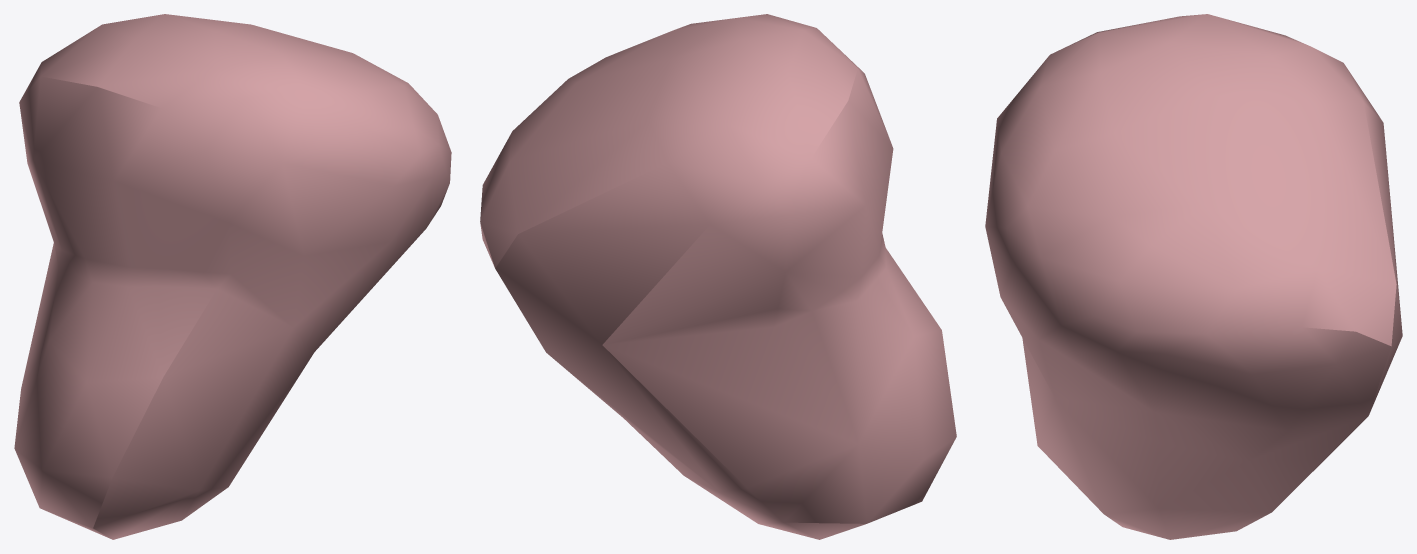
The model's file is fma14964_fj2604.glb.
3 views of the same model, side by side, from view 1: azimuth 30°, elevation 25°; view 2: azimuth 150°, elevation 25°; view 3: azimuth 270°, elevation 25° (orthographic). The views are drawn at different scales.
Visible parts, largest first — view 1: FMA14964_FJ2604; view 2: FMA14964_FJ2604; view 3: FMA14964_FJ2604.
Part boxes in pixels (left/top/right/bottom): FMA14964_FJ2604: left=14, top=14, right=451, bottom=539; FMA14964_FJ2604: left=480, top=14, right=956, bottom=539; FMA14964_FJ2604: left=985, top=14, right=1402, bottom=539.
Bounding box in the file's own units: 0.0289 × 0.0315 × 0.0225.
